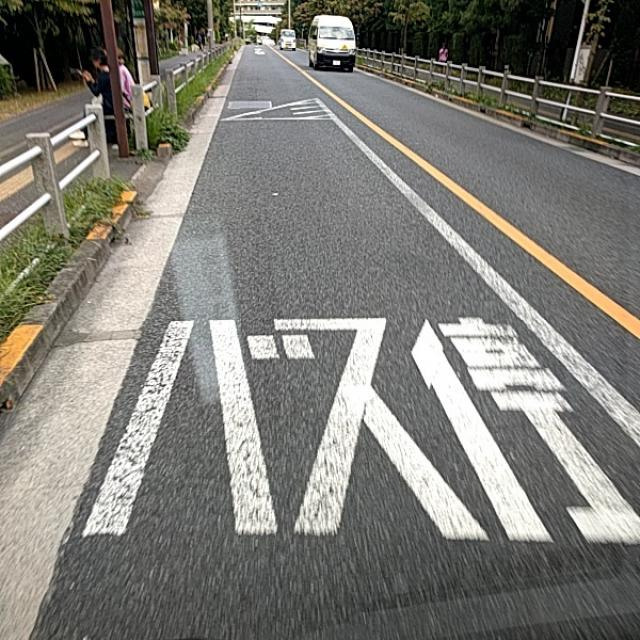pothole: (205, 364, 254, 465)
